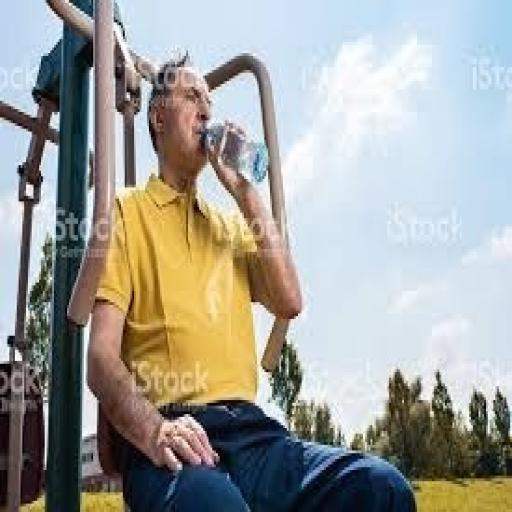drinking: (197, 117, 268, 182)
